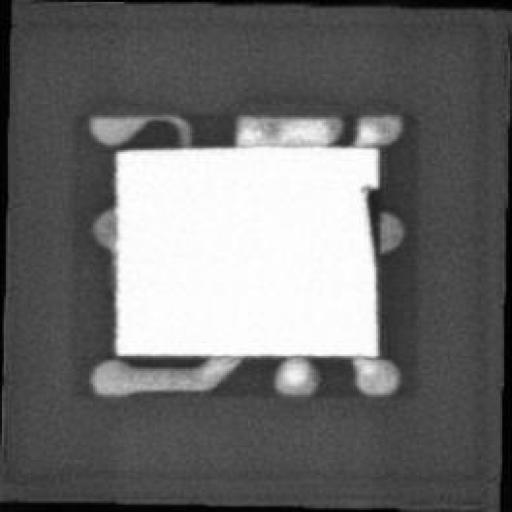DIE_BROKEN: (359, 182, 382, 260)
